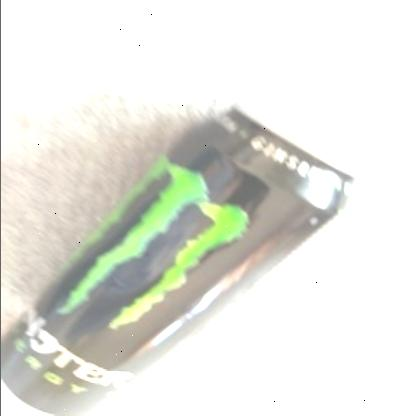Can: (0, 101, 366, 416)
